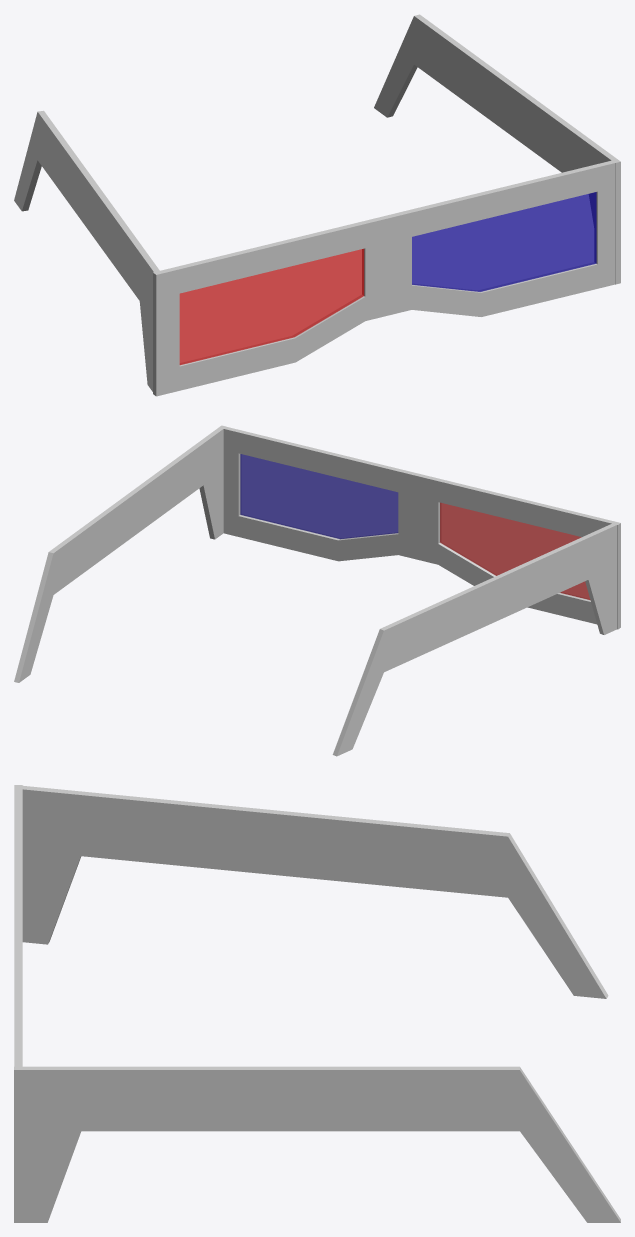
The model's file is sans_nom1.glb.
3 views of the same model, one above another, from view 1: azimuth 30°, elevation 25°; view 2: azimuth 150°, elevation 25°; view 3: azimuth 270°, elevation 25° (orthographic). The views are drawn at different scales.
Parts seen in each view (by area): view 1: Line001_Material #56_0, Plane003, Plane004, Plane002, Plane001; view 2: Line001_Material #56_0, Plane002, Plane004, Plane001, Plane003; view 3: Line001_Material #56_0.
Boxes of the visible parts, left/top/right/bottom form: Line001_Material #56_0: left=14, top=14, right=620, bottom=396; Plane003: left=179, top=249, right=364, bottom=365; Plane004: left=412, top=192, right=596, bottom=291; Plane002: left=412, top=192, right=595, bottom=291; Plane001: left=180, top=249, right=363, bottom=364; Line001_Material #56_0: left=14, top=425, right=620, bottom=756; Plane002: left=240, top=454, right=398, bottom=539; Plane004: left=241, top=454, right=397, bottom=538; Plane001: left=440, top=502, right=590, bottom=599; Plane003: left=440, top=503, right=589, bottom=599; Line001_Material #56_0: left=14, top=785, right=620, bottom=1222.
Size of the model in its own units: 3.68 by 0.9188 by 3.31.
